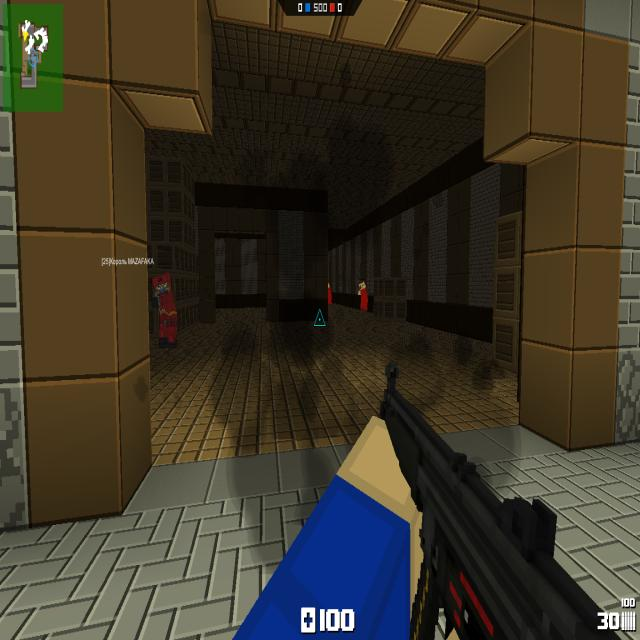enemy: (150, 272, 178, 349), (358, 279, 368, 313), (328, 282, 332, 305)
